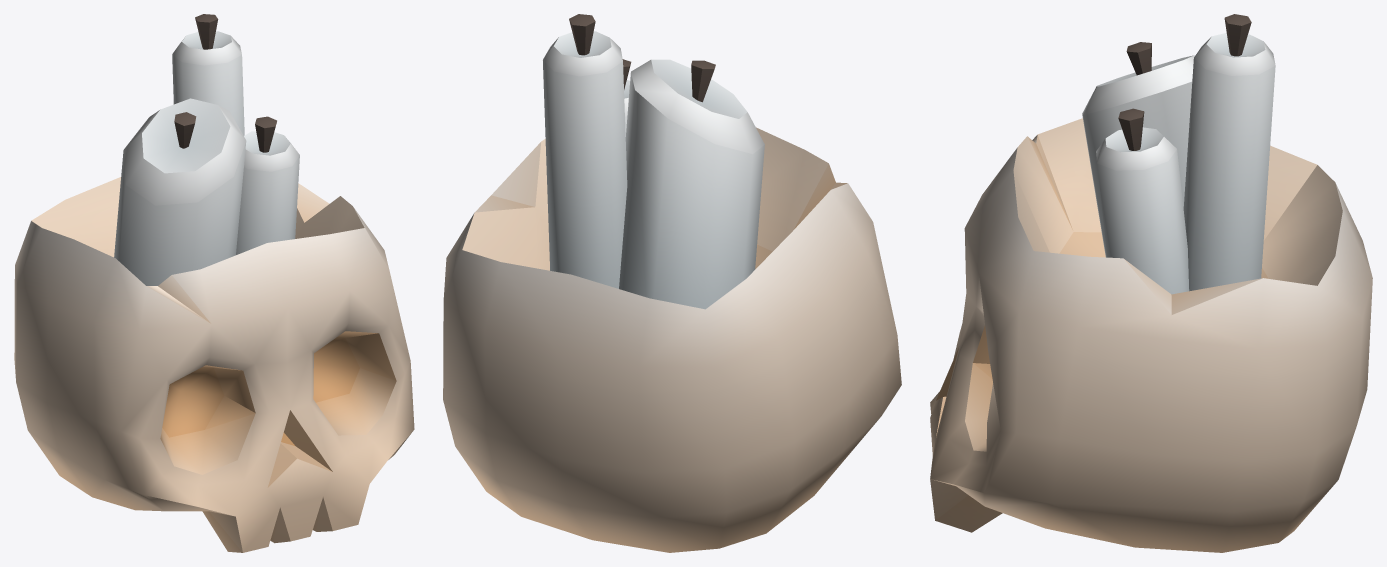
File: Skull Candle.glb
3 views of the same model, side by side, from view 1: azimuth 30°, elevation 25°; view 2: azimuth 150°, elevation 25°; view 3: azimuth 270°, elevation 25° (orthographic). The views are drawn at different scales.
Visible parts, largest first — view 1: skull_candle; view 2: skull_candle; view 3: skull_candle.
Part boxes in pixels (left/top/right/bottom): skull_candle: left=14, top=14, right=414, bottom=552; skull_candle: left=443, top=14, right=901, bottom=552; skull_candle: left=930, top=14, right=1372, bottom=552.
Bounding box in the file's own units: 0.9176 × 1.19 × 0.9361.
Materials: 1 (1 with a texture image).
